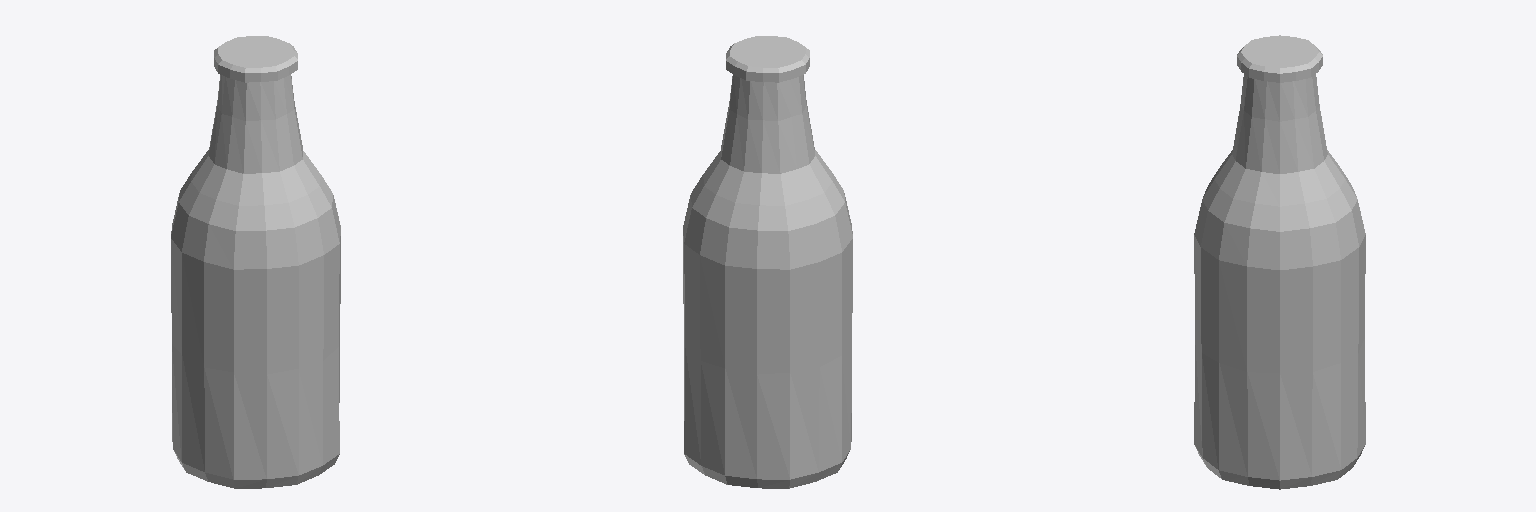
File: bottle_01.obj
3 views of the same model, side by side, from view 1: azimuth 30°, elevation 25°; view 2: azimuth 150°, elevation 25°; view 3: azimuth 270°, elevation 25° (orthographic).
Visible parts, largest first — view 1: bottle_01_bottle01_mesh; view 2: bottle_01_bottle01_mesh; view 3: bottle_01_bottle01_mesh.
Boxes of the visible parts, box(x1,y1,x2,y2) form: bottle_01_bottle01_mesh: box(171, 36, 340, 488); bottle_01_bottle01_mesh: box(683, 36, 852, 488); bottle_01_bottle01_mesh: box(1194, 35, 1365, 489).
Size of the model in its own units: 0.2397 by 0.629 by 0.2397.